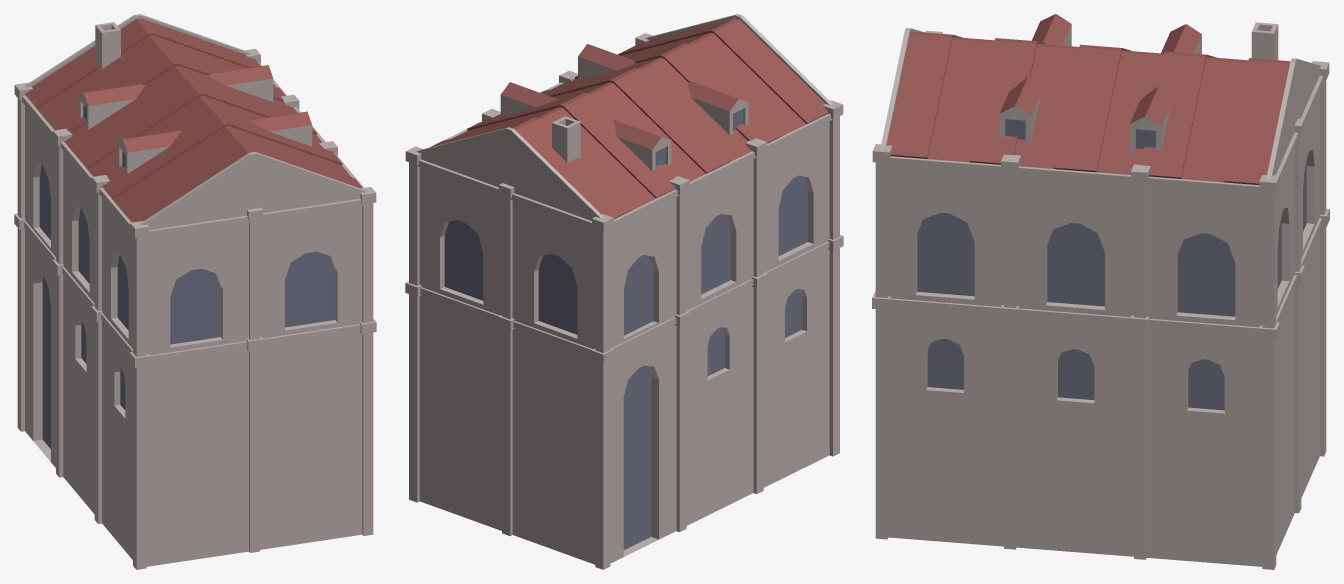
Rendered from building_1.glb.
3 renders of one model, left to right at view 1: azimuth 30°, elevation 25°; view 2: azimuth 150°, elevation 25°; view 3: azimuth 270°, elevation 25°, orthographic. The views are drawn at different scales.
Visible parts, largest first — view 1: Cube.1080; view 2: Cube.1080; view 3: Cube.1080.
Boxes of the visible parts, <box> form: Cube.1080: <box>14,14,376,569</box>; Cube.1080: <box>405,14,843,569</box>; Cube.1080: <box>872,14,1329,569</box>.
Size of the model in its own units: 0.1388 by 0.1944 by 0.1758.
